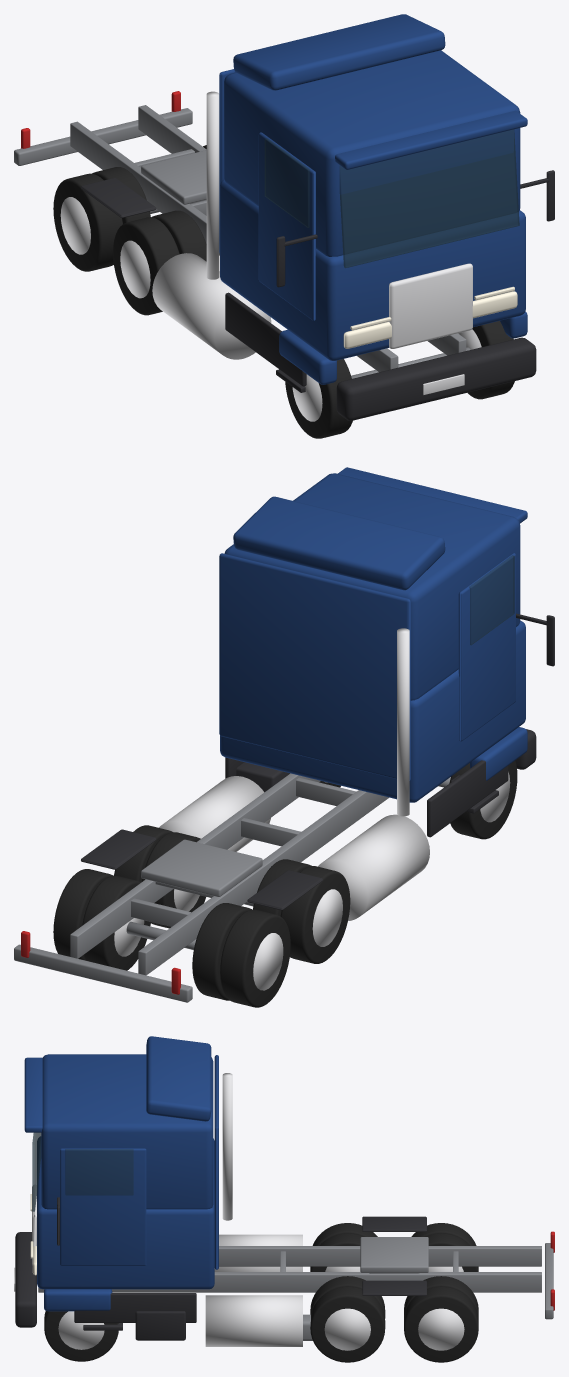
3 views of the same model, one above another, from view 1: azimuth 30°, elevation 25°; view 2: azimuth 150°, elevation 25°; view 3: azimuth 270°, elevation 25° (orthographic). The views are drawn at different scales.
Visible parts, largest first — view 1: cab_body_upper, cab_body_lower, windshield, cab_roof_spoiler, cab_door_R, bumper_front, fuel_tank_R, grille, cab_roof_visor, chassis_rail_R, tire_D2_R_out, tire_D1_R_out (+19 smaller); view 2: cab_rear_panel, cab_body_upper, cab_roof_spoiler, cab_body_lower, cab_door_R, fuel_tank_R, chassis_rail_R, chassis_rail_L, tire_D2_R_out, fifth_wheel_plate, tire_D1_R_out, fuel_tank_L (+21 smaller); view 3: cab_body_upper, cab_door_L, cab_body_lower, chassis_rail_L, chassis_rail_R, cab_roof_spoiler, fuel_tank_L, cab_window_L, tire_D2_L_out, tire_D1_L_out, cab_side_skirt_L, fifth_wheel_plate (+21 smaller).
Part boxes in pixels (x1=…): cab_body_upper: x1=224, y1=50, x2=520, y2=256; cab_body_lower: x1=220, y1=180, x2=525, y2=360; windshield: x1=339, y1=129, x2=519, y2=268; cab_roof_spoiler: x1=233, y1=14, x2=445, y2=90; cab_door_R: x1=258, y1=132, x2=315, y2=320; bumper_front: x1=336, y1=337, x2=536, y2=420; fuel_tank_R: x1=152, y1=253, x2=271, y2=359; grille: x1=389, y1=263, x2=472, y2=348; cab_roof_visor: x1=335, y1=110, x2=527, y2=169; chassis_rail_R: x1=70, y1=121, x2=398, y2=372; tire_D2_R_out: x1=53, y1=173, x2=122, y2=271; tire_D1_R_out: x1=113, y1=217, x2=179, y2=315; cab_rear_panel: x1=219, y1=553, x2=410, y2=780; cab_body_upper: x1=224, y1=473, x2=520, y2=700; cab_roof_spoiler: x1=233, y1=496, x2=445, y2=590; cab_body_lower: x1=220, y1=620, x2=525, y2=802; cab_door_R: x1=458, y1=553, x2=515, y2=741; fuel_tank_R: x1=318, y1=814, x2=429, y2=920; chassis_rail_R: x1=138, y1=790, x2=388, y2=975; chassis_rail_L: x1=70, y1=773, x2=320, y2=958; tire_D2_R_out: x1=220, y1=909, x2=290, y2=1007; fifth_wheel_plate: x1=141, y1=839, x2=262, y2=896; tire_D1_R_out: x1=280, y1=866, x2=350, y2=963; fuel_tank_L: x1=159, y1=776, x2=270, y2=851; cab_body_upper: x1=41, y1=1054, x2=213, y2=1209; cab_door_L: x1=60, y1=1148, x2=146, y2=1265; cab_body_lower: x1=37, y1=1136, x2=214, y2=1289; chassis_rail_L: x1=38, y1=1272, x2=541, y2=1292; chassis_rail_R: x1=219, y1=1246, x2=541, y2=1266; cab_roof_spoiler: x1=146, y1=1036, x2=211, y2=1121; fuel_tank_L: x1=205, y1=1295, x2=302, y2=1346; cab_window_L: x1=65, y1=1149, x2=133, y2=1195; tire_D2_L_out: x1=404, y1=1286, x2=478, y2=1362; tire_D1_L_out: x1=310, y1=1286, x2=385, y2=1362; cab_side_skirt_L: x1=74, y1=1293, x2=196, y2=1322; fifth_wheel_plate: x1=360, y1=1237, x2=428, y2=1272.
Size of the model in its own units: 3.5 by 3.96 by 7.52.
